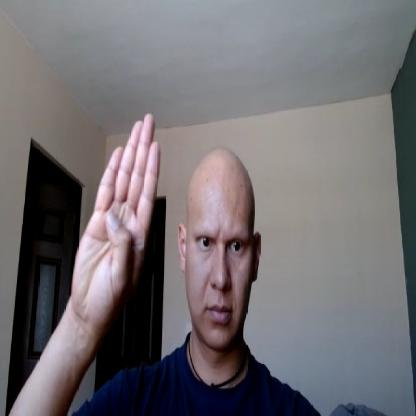B: (73, 112, 160, 324)
